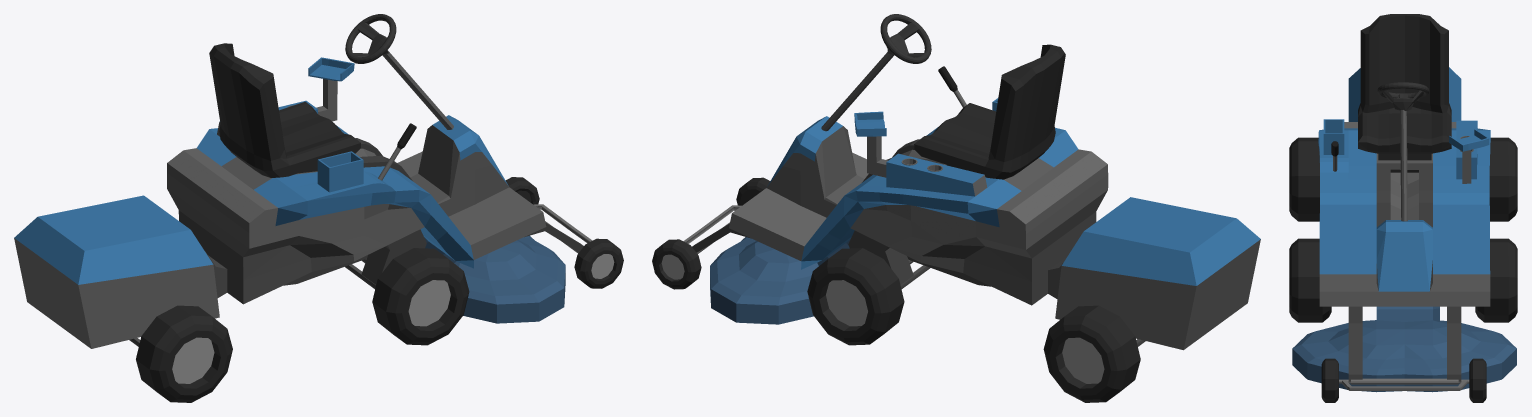
Rendered from Lawnmover_Main_3.blend.fbx.
3 views of the same model, side by side, from view 1: azimuth 30°, elevation 25°; view 2: azimuth 150°, elevation 25°; view 3: azimuth 270°, elevation 25° (orthographic). The views are drawn at different scales.
Parts seen in each view (by area): view 1: base, back whil.001, chair, shield, shotgun holder, stiring whil, bad front whil.003, bad front whil.002; view 2: base, back whil, chair, shield, stiring whil, bad front whil.002, shotgun holder, bad front whil.003; view 3: base, chair, shield, back whil.001, back whil, stiring whil, bad front while cylinder, shotgun holder, bad front whil.002, bad front whil.003.
Part boxes in pixels (left/top/right/bottom): base: left=14, top=79, right=583, bottom=348; back whil.001: left=136, top=248, right=469, bottom=402; chair: left=209, top=43, right=360, bottom=177; shield: left=454, top=235, right=565, bottom=323; shotgun holder: left=308, top=57, right=363, bottom=192; stiring whil: left=345, top=14, right=453, bottom=129; bad front whil.003: left=574, top=238, right=623, bottom=288; bad front whil.002: left=505, top=177, right=539, bottom=204; base: left=692, top=116, right=1260, bottom=350; back whil: left=807, top=248, right=1140, bottom=402; chair: left=914, top=44, right=1065, bottom=179; shield: left=710, top=237, right=818, bottom=324; stiring whil: left=821, top=14, right=931, bottom=131; bad front whil.002: left=652, top=239, right=701, bottom=289; shotgun holder: left=854, top=98, right=998, bottom=136; bad front whil.003: left=736, top=177, right=770, bottom=205; base: left=1318, top=67, right=1490, bottom=382; chair: left=1358, top=14, right=1451, bottom=160; shield: left=1292, top=320, right=1516, bottom=392; back whil.001: left=1289, top=137, right=1331, bottom=322; back whil: left=1475, top=137, right=1517, bottom=322; stiring whil: left=1377, top=82, right=1429, bottom=221; bad front while cylinder: left=1339, top=378, right=1469, bottom=390; shotgun holder: left=1323, top=119, right=1489, bottom=154; bad front whil.002: left=1469, top=358, right=1486, bottom=402; bad front whil.003: left=1321, top=358, right=1338, bottom=402.
Size of the model in its own units: 6319 by 3188 by 2683.
